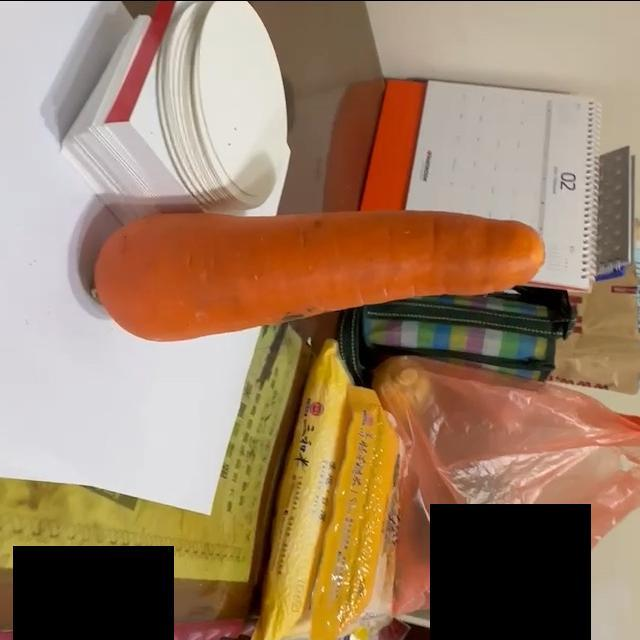carrot: (89, 209, 545, 348)
